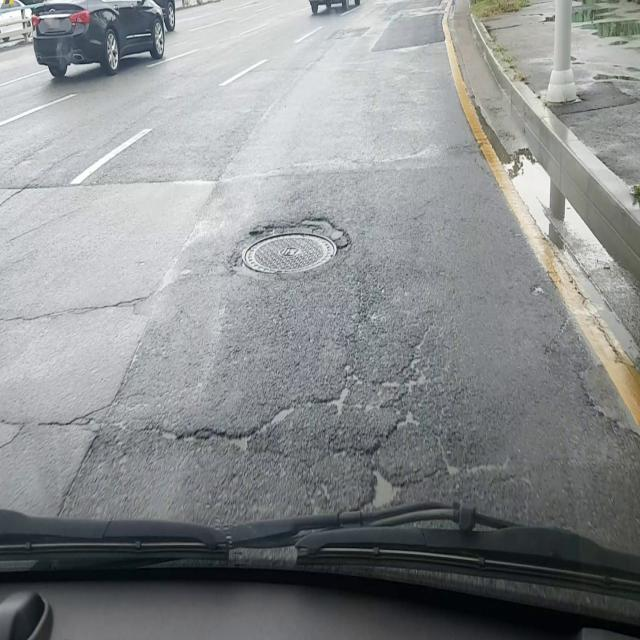Pothole: (240, 215, 354, 277)
